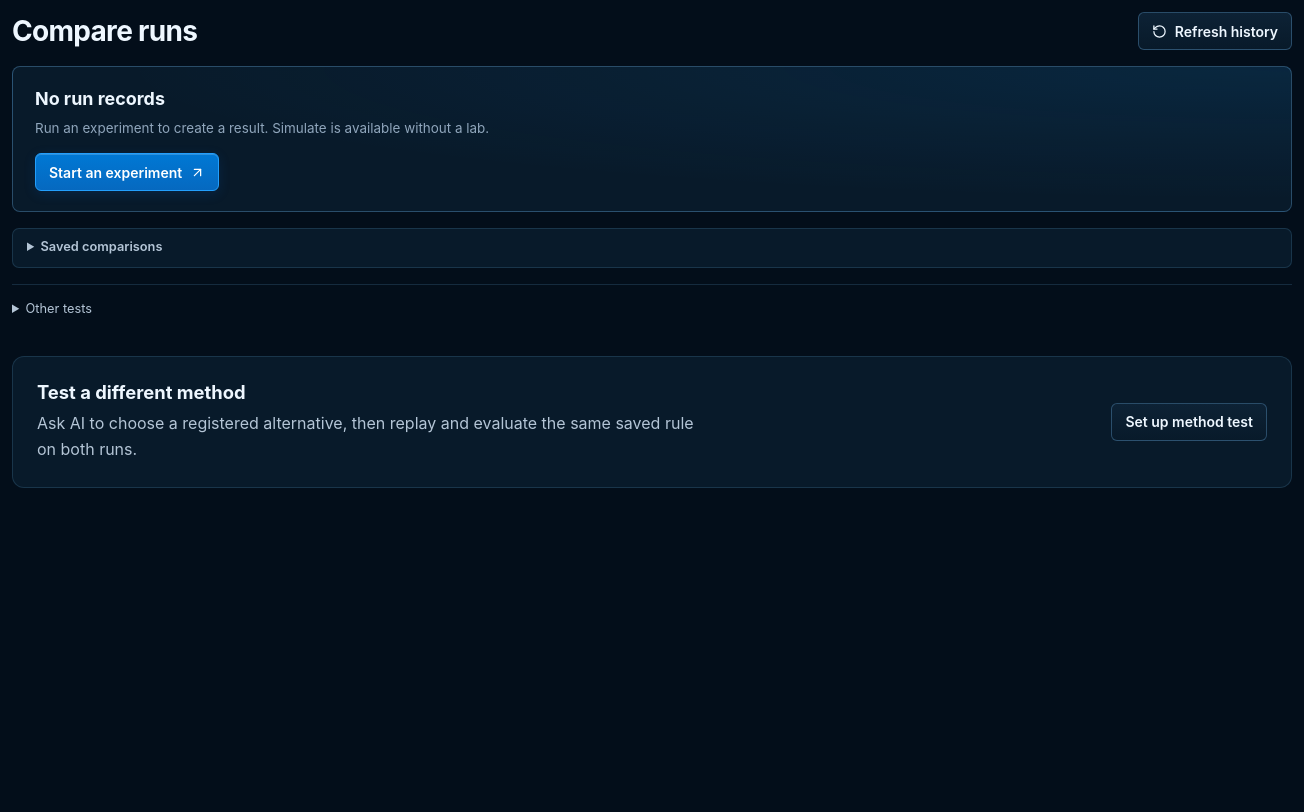
Test: leads empty history with a start action and restores run choices after refresh
This screenshot has width=1304, height=812.
Expected: the text "No run records" is shown, [35,87,165,111]
Expected: the text "Simulate is available without a lab" is shown, [35,120,489,136]
Click the heading "Saved comparisons" at (101, 247), box [40,239,162,254]
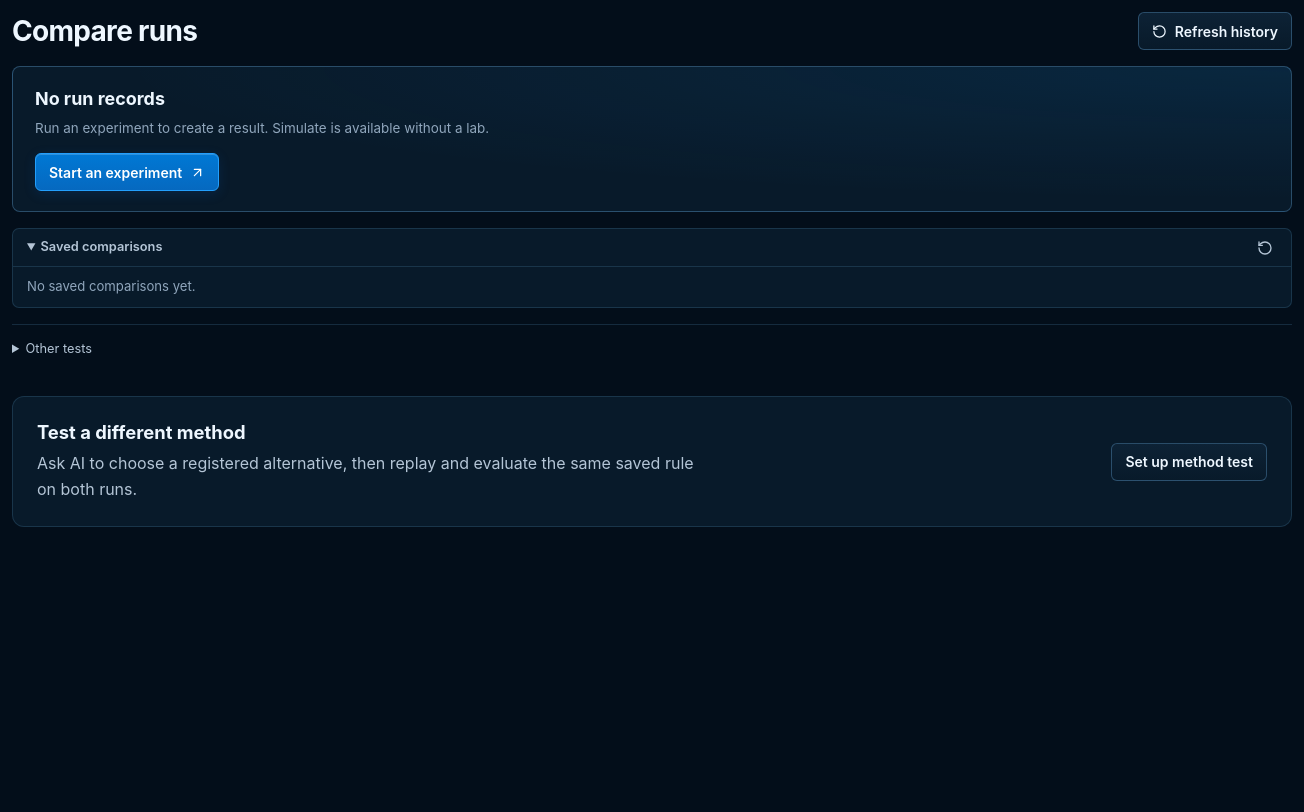
Result: the text "No saved comparisons yet." is shown at [27,278,196,294]
Result: the button named "Reload saved comparisons" is enabled at [1247,230,1283,266]
Click the button "Refresh history" at (1215, 31), box [1138,12,1292,50]
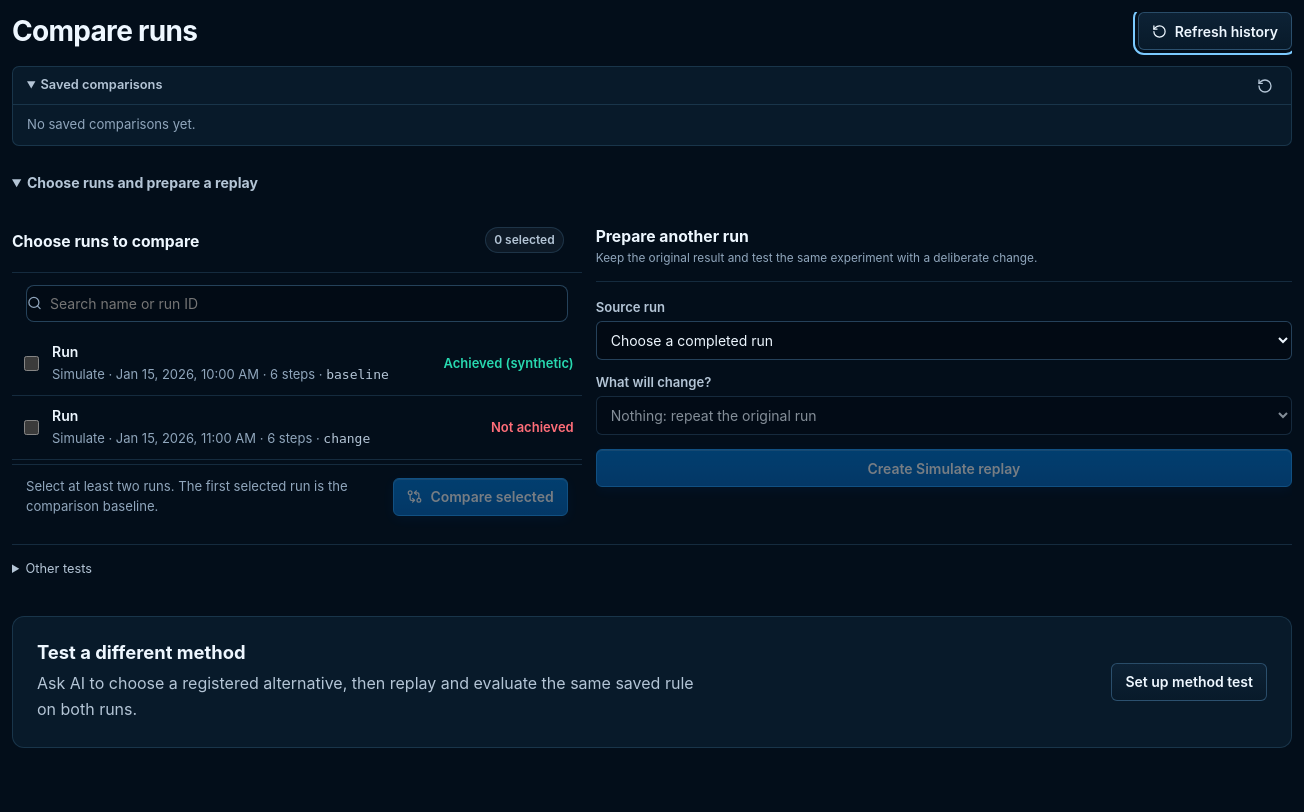
Result: the field named "Search run history" is shown at [50,286,567,321]
Result: the text "No run records" is gone
Result: the number of checkboxes is 2 at [24,356,39,371]; [24,420,39,435]
